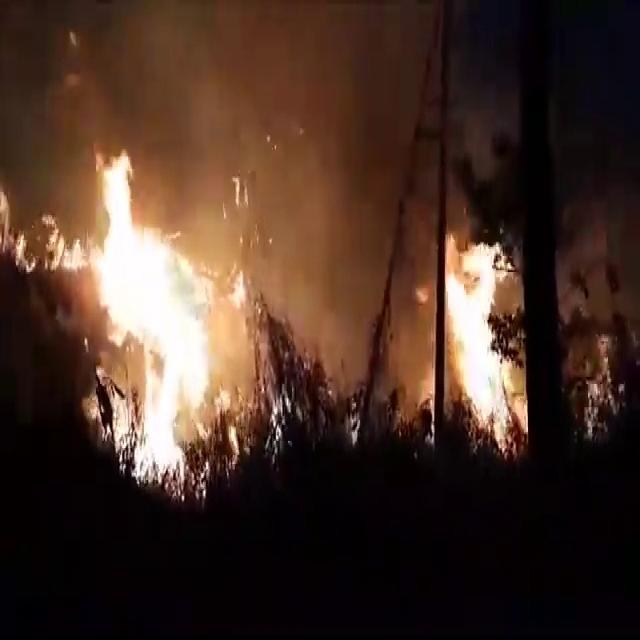Fire: (51, 158, 224, 484), (444, 238, 523, 439)
Smoke: (177, 7, 383, 322), (248, 27, 386, 470), (555, 188, 639, 352)
